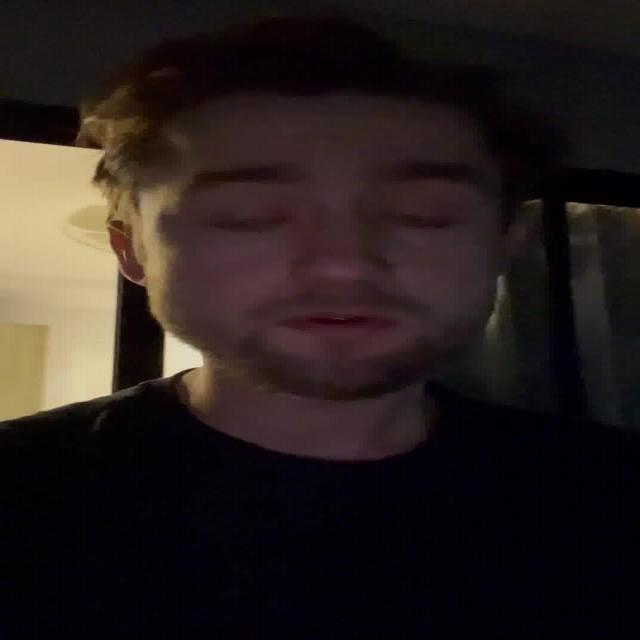earlobe: (120, 262, 148, 287)
eye: (205, 210, 298, 233), (390, 208, 462, 233)
nose: (299, 276, 379, 311)
wholeear: (103, 219, 149, 287), (492, 218, 530, 282)
